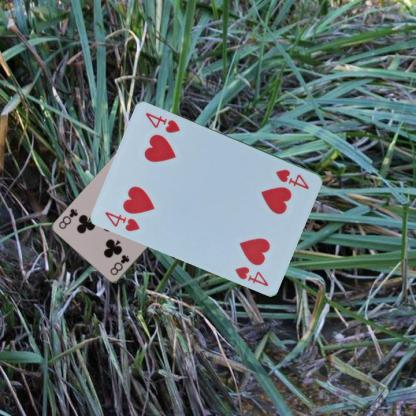4h: (102, 208, 142, 233), (273, 166, 311, 191)
8c: (107, 252, 130, 277)
